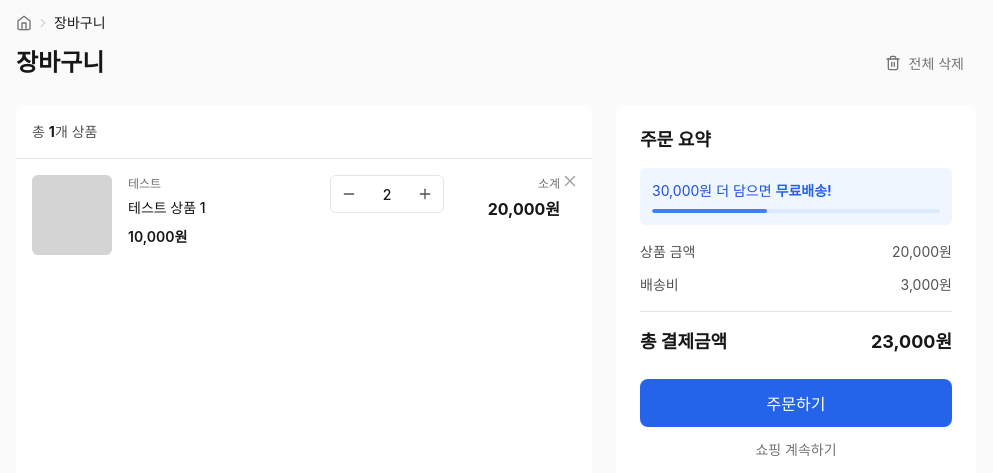
Test case: CartPage › cart actions › should clear cart when clear button is clicked
The width and height of the screenshot is (993, 473).
Click the button "전체 삭제" at coordinates (924, 63), box [873,45,976,81]
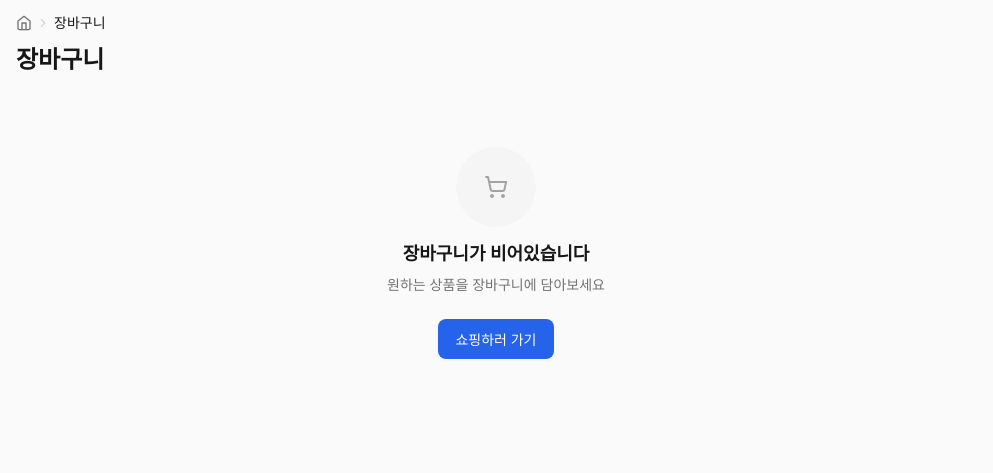
Expected: the heading "장바구니가 비어있습니다" is shown, [403,243,589,266]
